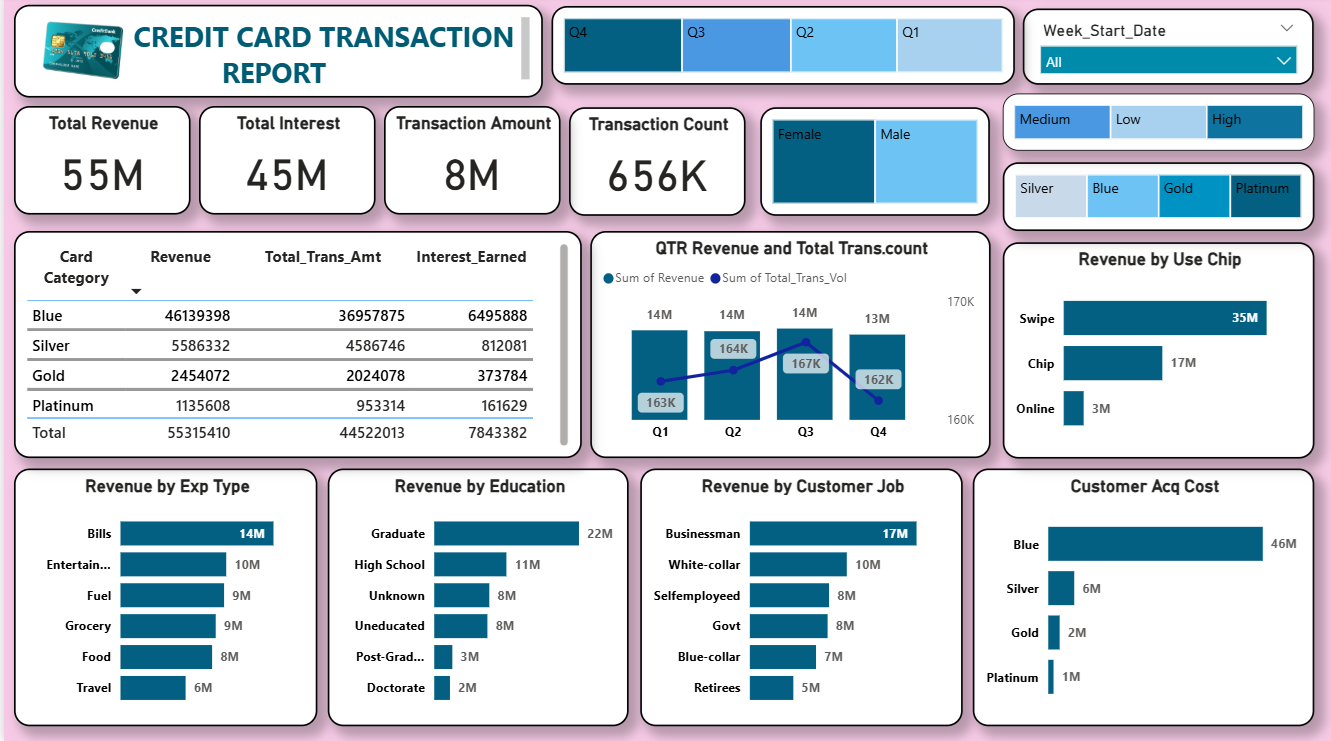

What the dashboard file says about the page in this screenshot:
{"tool":"powerbi","page":{"name":"Transaction","canvas":[1280,720],"ordinal":0},"visuals":[{"type":"textbox","box":[9.7,8.4,510.3,89.3],"z":0},{"type":"lineStackedColumnComboChart","title":"QTR Revenue and Total Trans.count","fields":{"Category":["credit_card.Qtr"],"Y":["Sum(credit_card.Revenue)"],"Y2":["Sum(credit_card.Total_Trans_Vol)"]},"box":[565.8,226.8,386.1,219.6],"z":1000},{"type":"barChart","title":" Revenue by Exp Type","fields":{"Y":["Sum(credit_card.Revenue)"],"Category":["credit_card.Exp Type"]},"box":[9.7,456,293.2,248.5],"z":2000},{"type":"barChart","title":" Revenue by Education","fields":{"Y":["Sum(credit_card.Revenue)"],"Category":["customer.Education_Level"]},"box":[312.5,456,290.8,248.5],"z":3000},{"type":"barChart","title":" Revenue by Customer Job","fields":{"Y":["Sum(credit_card.Revenue)"],"Category":["customer.Customer_Job"]},"box":[614.1,456,311.3,248.5],"z":4000},{"type":"barChart","title":"Customer Acq Cost","fields":{"Y":["Sum(credit_card.Revenue)"],"Category":["credit_card.Card_Category"]},"box":[935,456,329.4,248.5],"z":5000},{"type":"barChart","title":" Revenue by Use Chip","fields":{"Y":["Sum(credit_card.Revenue)"],"Category":["credit_card.Use Chip"]},"box":[963.9,237.7,300.4,208.7],"z":6000},{"type":"tableEx","fields":{"Values":["credit_card.Card_Category","Sum(credit_card.Revenue)","Sum(credit_card.Total_Trans_Amt)","Sum(credit_card.Interest_Earned)"]},"box":[9.7,226.8,547.7,219.6],"z":7000},{"type":"card","title":"Total Revenue","fields":{"Values":["Sum(credit_card.Revenue)"]},"box":[9.7,106.2,170.1,105],"z":8000},{"type":"card","title":"Total Interest","fields":{"Values":["Sum(credit_card.Total_Trans_Amt)"]},"box":[188.2,106.2,170.1,105],"z":9000},{"type":"card","title":"Transaction Count","fields":{"Values":["Sum(credit_card.Total_Trans_Vol)"]},"box":[545.3,107.4,170.1,105],"z":10000},{"type":"card","title":"Transaction Amount","fields":{"Values":["Sum(credit_card.Interest_Earned)"]},"box":[366.8,106.2,170.1,105],"z":11000},{"type":"image","box":[24.1,19.3,113.4,66.4],"z":12000},{"type":"slicer","fields":{"Values":["credit_card.Week_Start_Date"]},"box":[983.2,12.1,281.1,73.6],"z":13000},{"type":"treemap","fields":{"Group":["credit_card.Qtr"],"Values":["Avg(credit_card.Client_Num)"]},"box":[528.4,9.7,447.6,76],"z":14000},{"type":"treemap","fields":{"Group":["customer.Gender"],"Values":["Avg(credit_card.Client_Num)"]},"box":[729.9,107.4,222,105],"z":15000},{"type":"treemap","fields":{"Values":["Avg(credit_card.Client_Num)"],"Group":["credit_card.Card_Category"]},"box":[963.9,160.5,300.4,66.4],"z":16000},{"type":"treemap","fields":{"Group":["customer.Income_group"],"Values":["Avg(credit_card.Client_Num)"]},"box":[963.9,94.1,300.4,55.5],"z":17000}]}

Visuals, with their boxes in screenshot pixels (x1, y1, x2, y2), scaled from the page's 1280x720 canvas onto the 1331x741 screenshot:
textbox: {"x1": 10, "y1": 9, "x2": 541, "y2": 101}
"QTR Revenue and Total Trans.count" lineStackedColumnComboChart: {"x1": 588, "y1": 233, "x2": 990, "y2": 459}
" Revenue by Exp Type" barChart: {"x1": 10, "y1": 469, "x2": 315, "y2": 725}
" Revenue by Education" barChart: {"x1": 325, "y1": 469, "x2": 627, "y2": 725}
" Revenue by Customer Job" barChart: {"x1": 639, "y1": 469, "x2": 962, "y2": 725}
"Customer Acq Cost" barChart: {"x1": 972, "y1": 469, "x2": 1315, "y2": 725}
" Revenue by Use Chip" barChart: {"x1": 1002, "y1": 245, "x2": 1315, "y2": 459}
tableEx - credit_card.Card_Category x Sum(credit_card.Revenue): {"x1": 10, "y1": 233, "x2": 580, "y2": 459}
"Total Revenue" card: {"x1": 10, "y1": 109, "x2": 187, "y2": 217}
"Total Interest" card: {"x1": 196, "y1": 109, "x2": 373, "y2": 217}
"Transaction Count" card: {"x1": 567, "y1": 111, "x2": 744, "y2": 219}
"Transaction Amount" card: {"x1": 381, "y1": 109, "x2": 558, "y2": 217}
image: {"x1": 25, "y1": 20, "x2": 143, "y2": 88}
slicer - credit_card.Week_Start_Date: {"x1": 1022, "y1": 12, "x2": 1315, "y2": 88}
treemap - credit_card.Qtr x Avg(credit_card.Client_Num): {"x1": 549, "y1": 10, "x2": 1015, "y2": 88}
treemap - customer.Gender x Avg(credit_card.Client_Num): {"x1": 759, "y1": 111, "x2": 990, "y2": 219}
treemap - Avg(credit_card.Client_Num) x credit_card.Card_Category: {"x1": 1002, "y1": 165, "x2": 1315, "y2": 234}
treemap - customer.Income_group x Avg(credit_card.Client_Num): {"x1": 1002, "y1": 97, "x2": 1315, "y2": 154}
